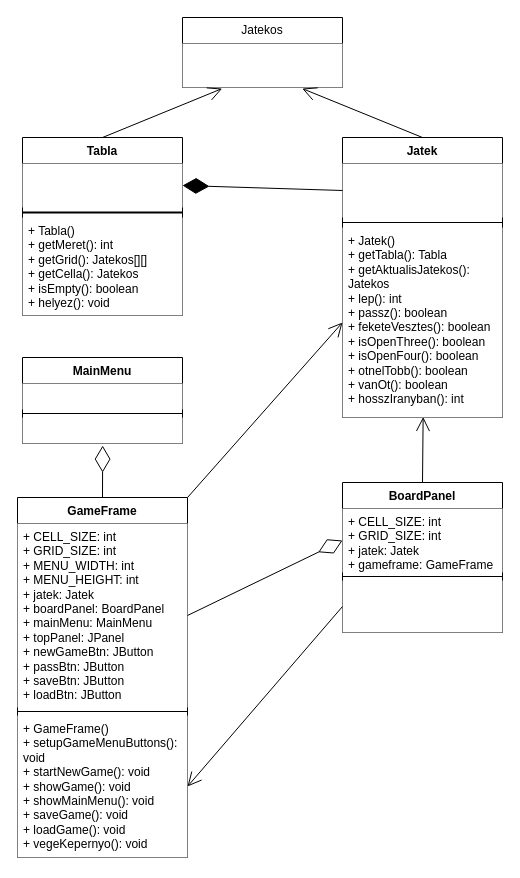
This 520x878 diagram has some shape labels left out. Each missing label, with the box of its shape:
+ BoardPanel() + setJatek(): void + paintComponent(): void: (342, 580, 502, 632)
+ gameframe: GameFrame: (22, 383, 182, 409)
+ MainMenu(): (22, 417, 182, 443)
+ meret: int + grid: Jatekos[][]: (22, 163, 182, 207)
- tabla: Tabla - aktualisJatekos: Jatekos - passzolasokSzama: int: (342, 163, 502, 217)
Enum{FEKETE, FEHER}: (182, 43, 342, 87)
